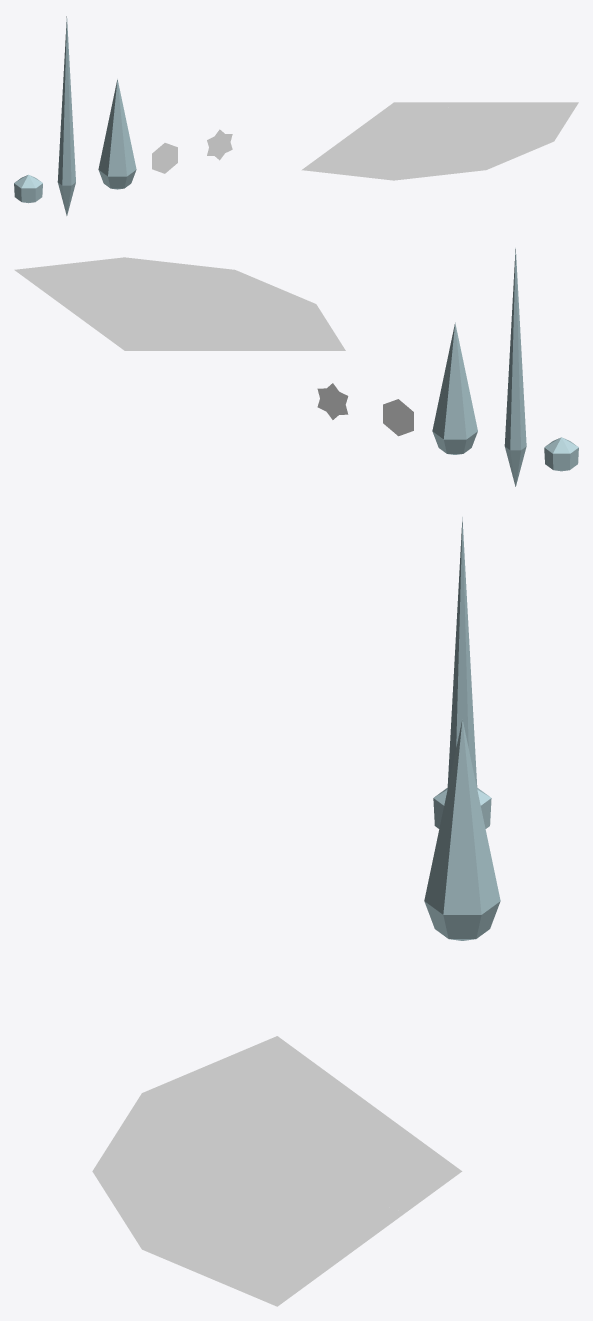
The model's file is ParticleMeshes.fbx.
3 renders of one model, top to bottom at view 1: azimuth 30°, elevation 25°; view 2: azimuth 150°, elevation 25°; view 3: azimuth 270°, elevation 25°, orthographic. The views are drawn at different scales.
Visible parts, largest first — view 1: EmitterOneThirdCircleFar, RainThickParticle01, RainSharpParticle01, EmitterOneThirdCircle, RainRoundParticle, SnowParticle01, SnowParticle02; view 2: EmitterOneThirdCircleFar, RainThickParticle01, RainSharpParticle01, EmitterOneThirdCircle, RainRoundParticle, SnowParticle01, SnowParticle02; view 3: EmitterOneThirdCircleFar, RainThickParticle01, EmitterOneThirdCircle, RainSharpParticle01.
Part boxes in pixels (x1,y1,x2,y2): EmitterOneThirdCircleFar: [301, 102, 578, 180]; RainThickParticle01: [98, 79, 136, 189]; RainSharpParticle01: [57, 16, 75, 215]; EmitterOneThirdCircle: [365, 102, 451, 126]; RainRoundParticle: [14, 174, 42, 203]; SnowParticle01: [152, 143, 177, 173]; SnowParticle02: [207, 129, 232, 160]; EmitterOneThirdCircleFar: [14, 257, 345, 350]; RainThickParticle01: [432, 322, 477, 454]; RainSharpParticle01: [504, 248, 526, 486]; EmitterOneThirdCircle: [90, 321, 193, 350]; RainRoundParticle: [544, 437, 578, 471]; SnowParticle01: [383, 399, 413, 436]; SnowParticle02: [317, 383, 348, 419]; EmitterOneThirdCircleFar: [92, 1036, 404, 1306]; RainThickParticle01: [424, 719, 500, 940]; EmitterOneThirdCircle: [347, 1129, 462, 1213]; RainSharpParticle01: [447, 517, 477, 788].
Bounding box in the file's own units: 1033 × 388 × 355.
